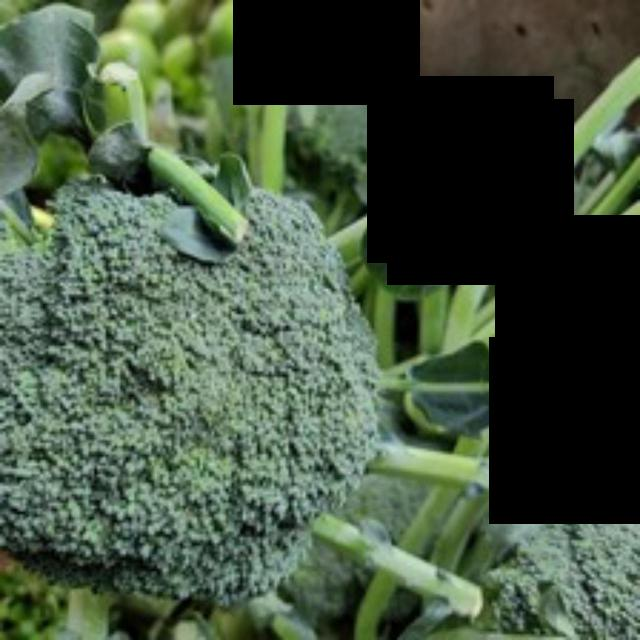broccoli: (0, 180, 388, 620)
